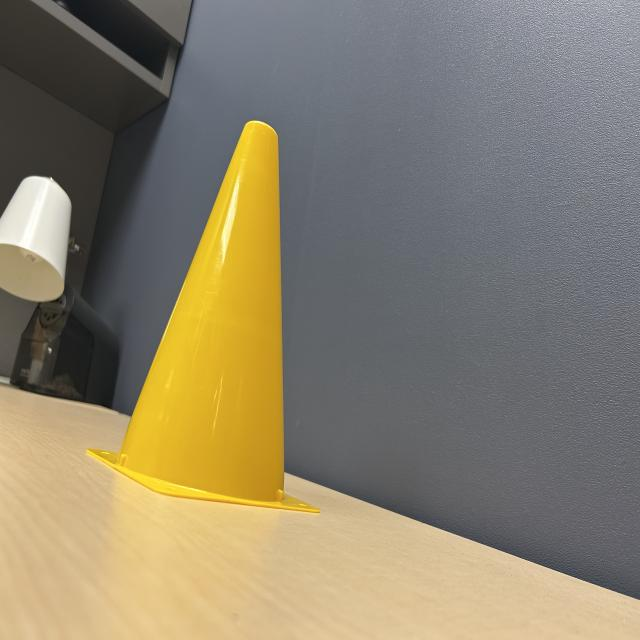yellow cone: (89, 116, 329, 522)
